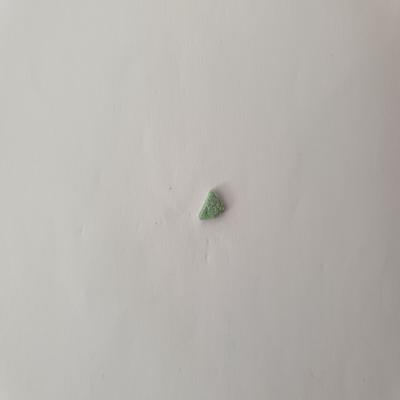plastic: (193, 187, 231, 221)
